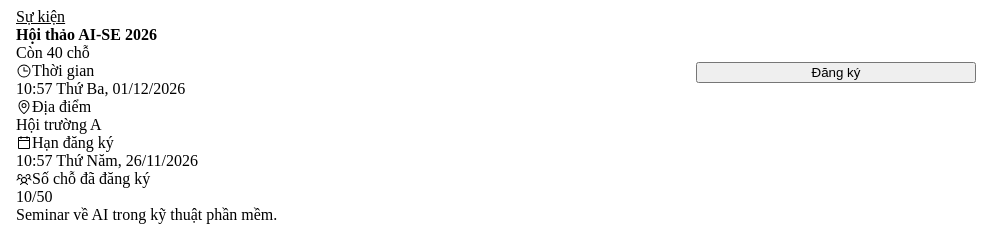
Test case: đăng ký lỗi 422 event_full: hiện thông báo, tải lại sự kiện, không báo thành công
This screenshot has width=993, height=241.
Step 1. Click the button "Đăng ký" → {"x": 836, "y": 72}, box [696,62,976,83]
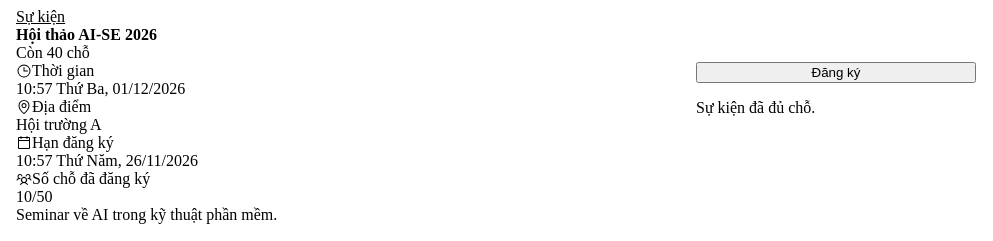
Expected: the text "Sự kiện đã đủ chỗ." is shown, [696,99,815,116]
